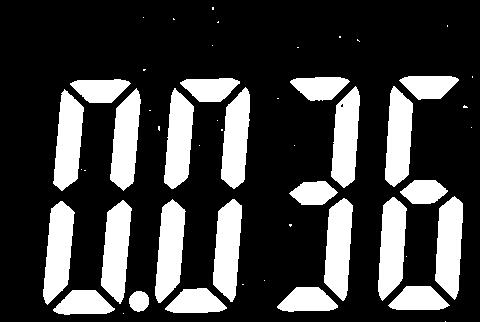0: (43, 74, 142, 318), (157, 73, 254, 313)
3: (277, 76, 360, 314)
6: (377, 75, 467, 314)
dot: (129, 293, 154, 315)
